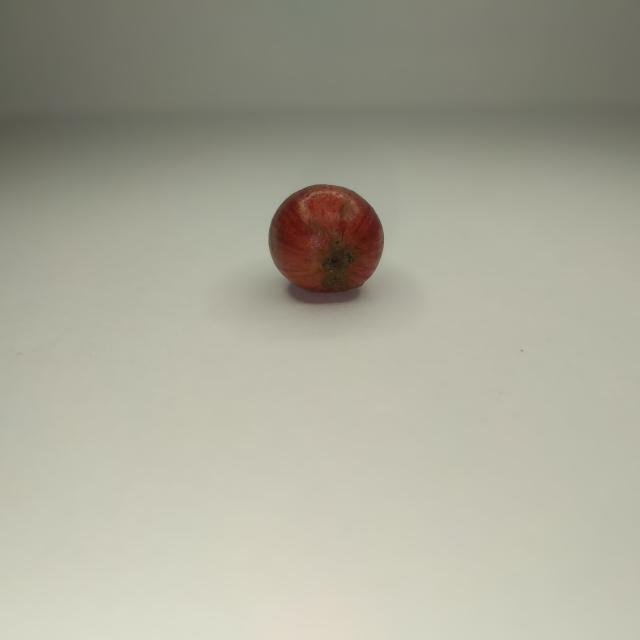Infectado: (269, 184, 382, 296)
